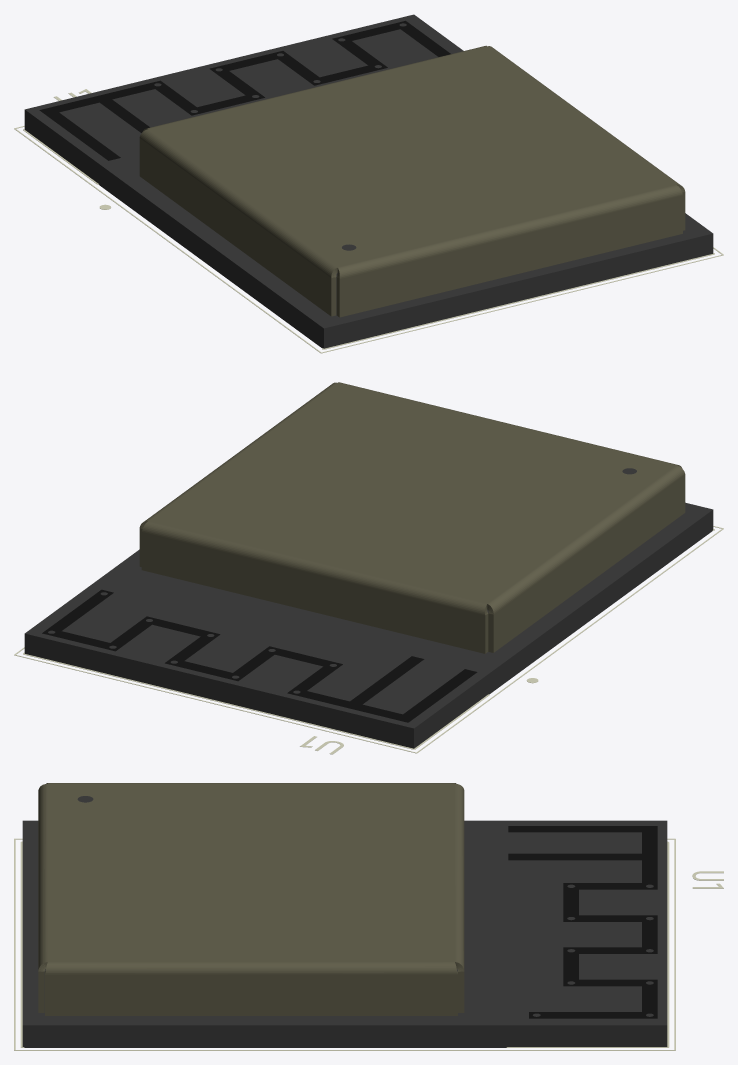
Rendered from vkaleb-tasteless-beige-wall-e.dae.
The picture shows the model from 3 angles, top to bottom: view 1: azimuth 30°, elevation 25°; view 2: azimuth 150°, elevation 25°; view 3: azimuth 270°, elevation 25°; orthographic projection. The views are drawn at different scales.
Parts seen in each view (by area): view 1: object 3, object 2, object 4, line; view 2: object 3, object 2, object 4, line; view 3: object 3, object 2, object 4, line.
Part boxes in pixels (box(x1,y1,x2,y2)): object 3: box(139, 45, 685, 317); object 2: box(24, 14, 713, 348); object 4: box(39, 20, 450, 160); line: box(14, 126, 723, 353); object 3: box(139, 382, 685, 653); object 2: box(24, 468, 713, 748); object 4: box(42, 589, 477, 722); line: box(14, 526, 723, 753); object 3: box(38, 783, 464, 1015); object 2: box(22, 796, 667, 1047); object 4: box(508, 826, 657, 1018); line: box(14, 838, 675, 1050).
Size of what is drawn, in the model's own units: 0.0166 by 0.0226 by 0.00259.
